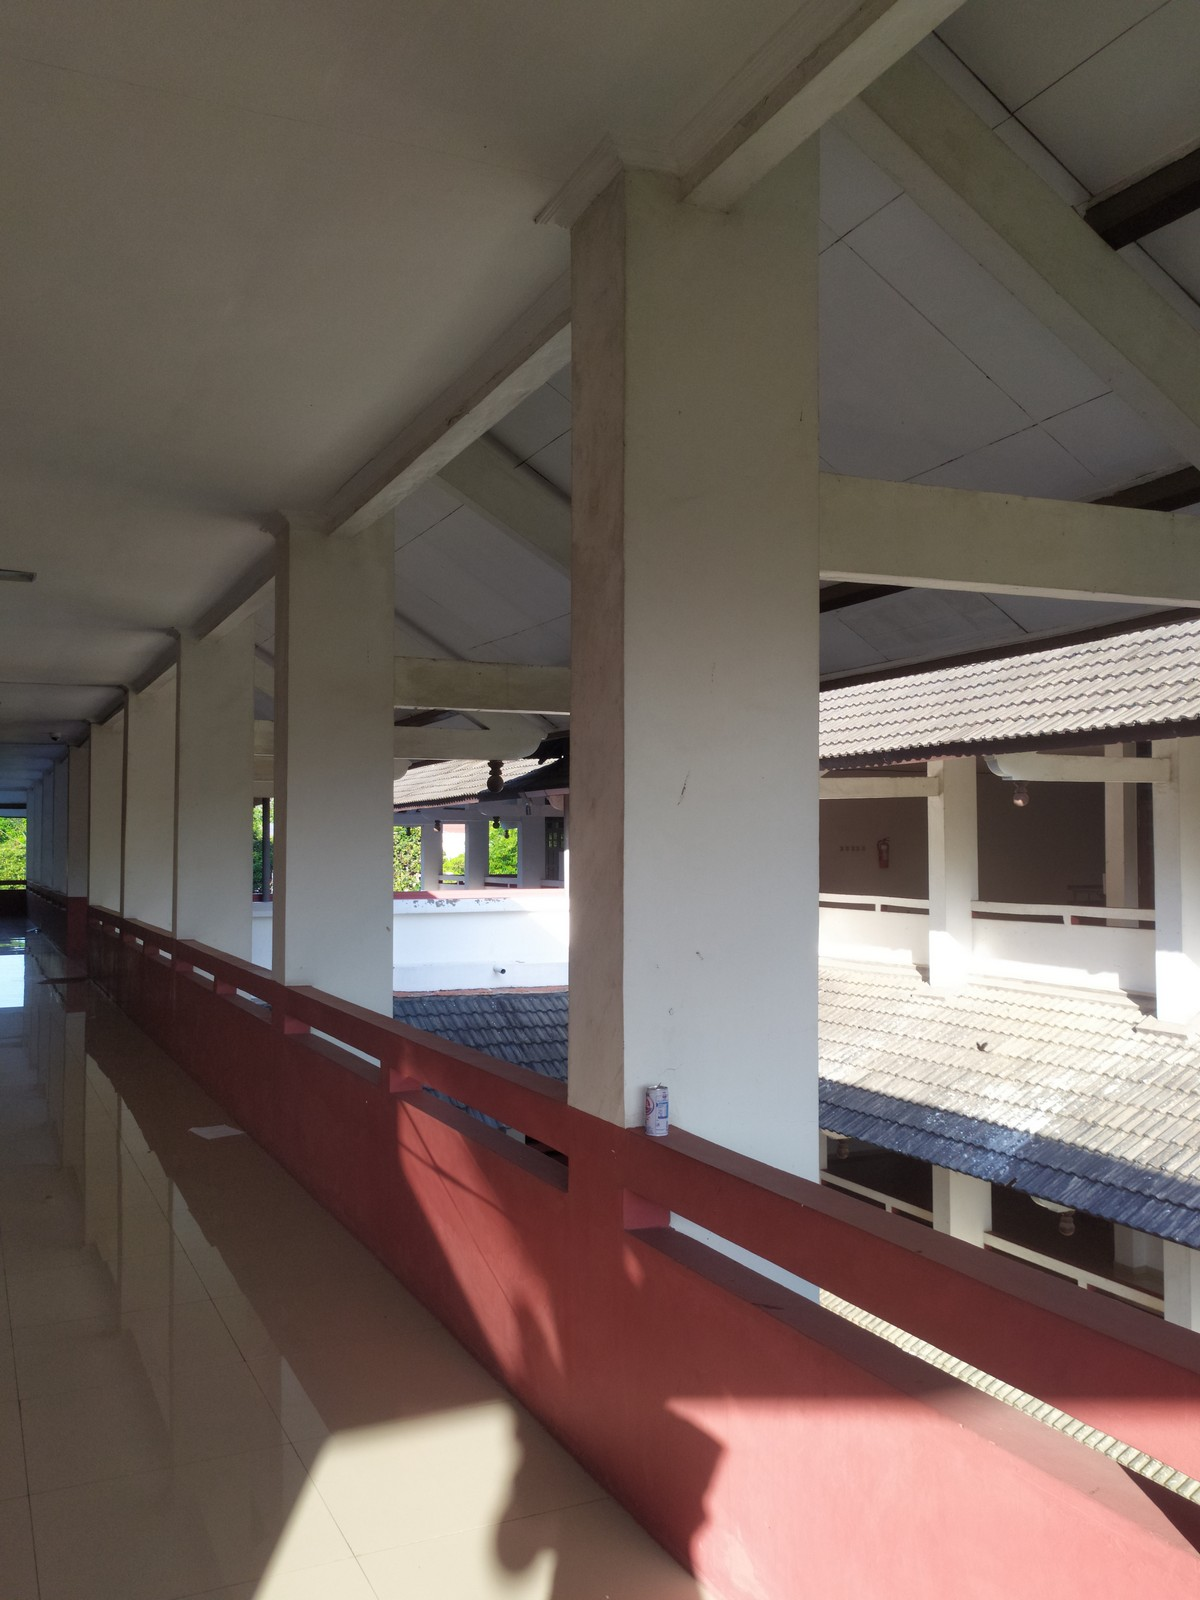concrete beam: (800, 470, 1194, 617), (382, 655, 570, 722)
concrete column: (560, 160, 832, 1150), (263, 506, 406, 1013), (165, 620, 261, 957), (1139, 740, 1200, 1044), (916, 755, 987, 997), (113, 675, 176, 923)
